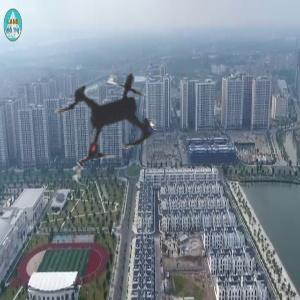drone: (5, 9, 214, 218)
